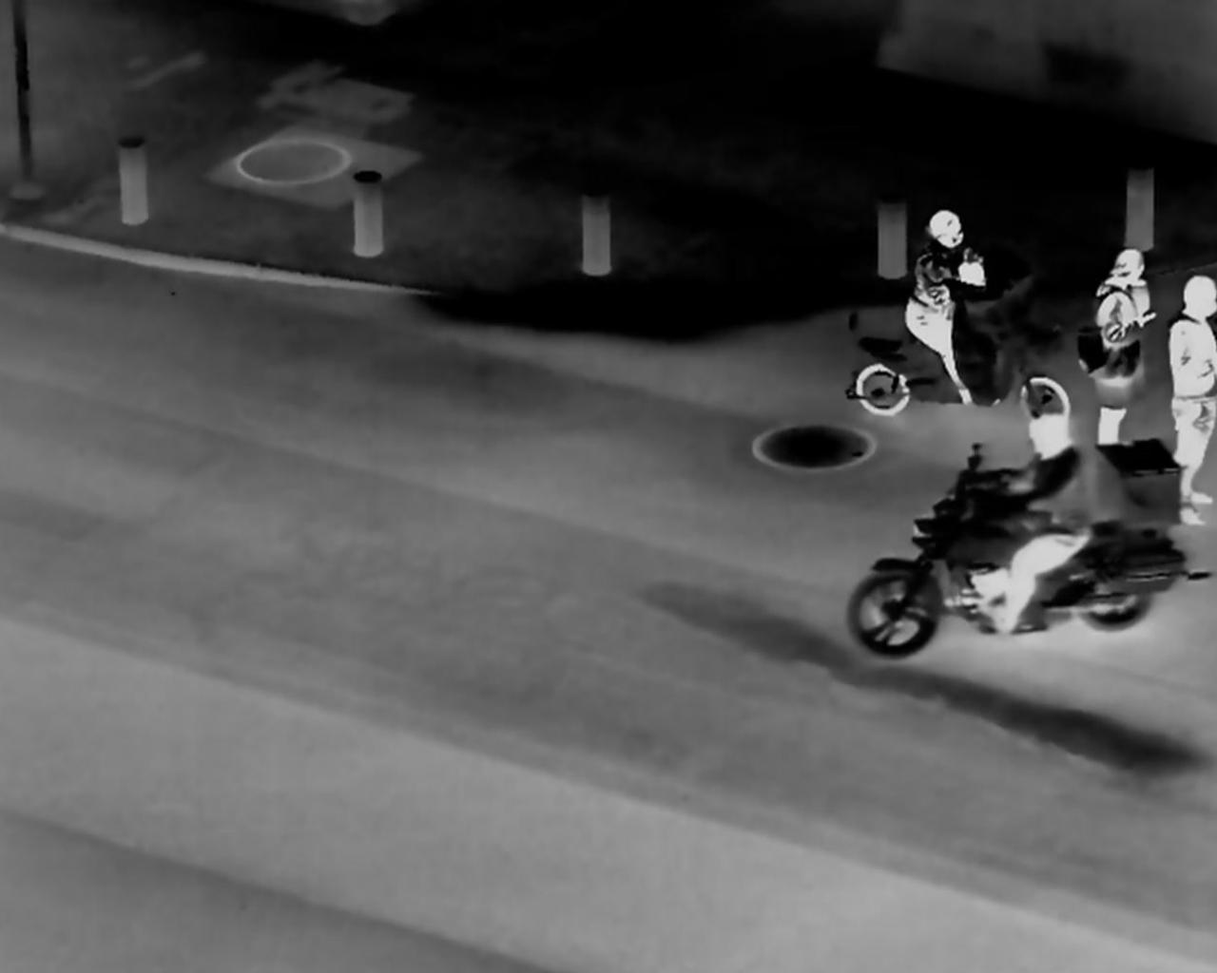person: (985, 411, 1094, 631), (896, 206, 995, 416), (1076, 225, 1163, 441), (1159, 252, 1217, 544)
